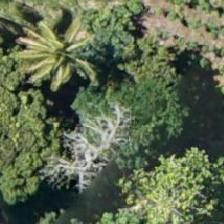coconut_tree: (0, 18, 79, 108)
